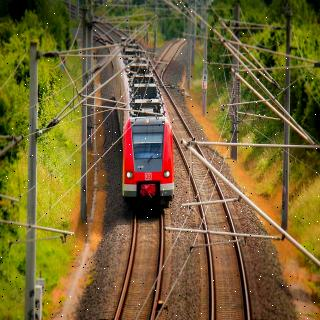poezd: (115, 49, 174, 205)
